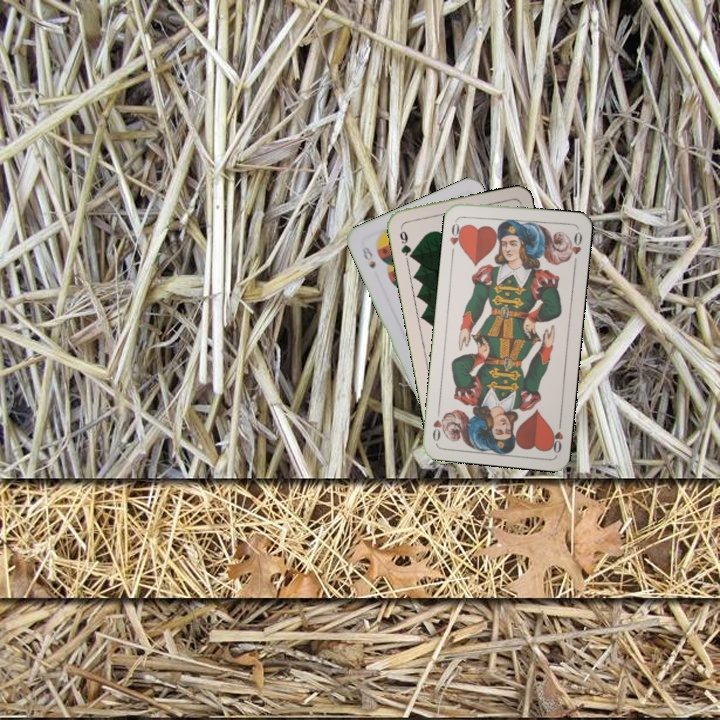G9: (396, 223, 416, 263)
HO: (446, 215, 466, 256), (546, 415, 566, 455)
S8: (358, 243, 378, 271)
